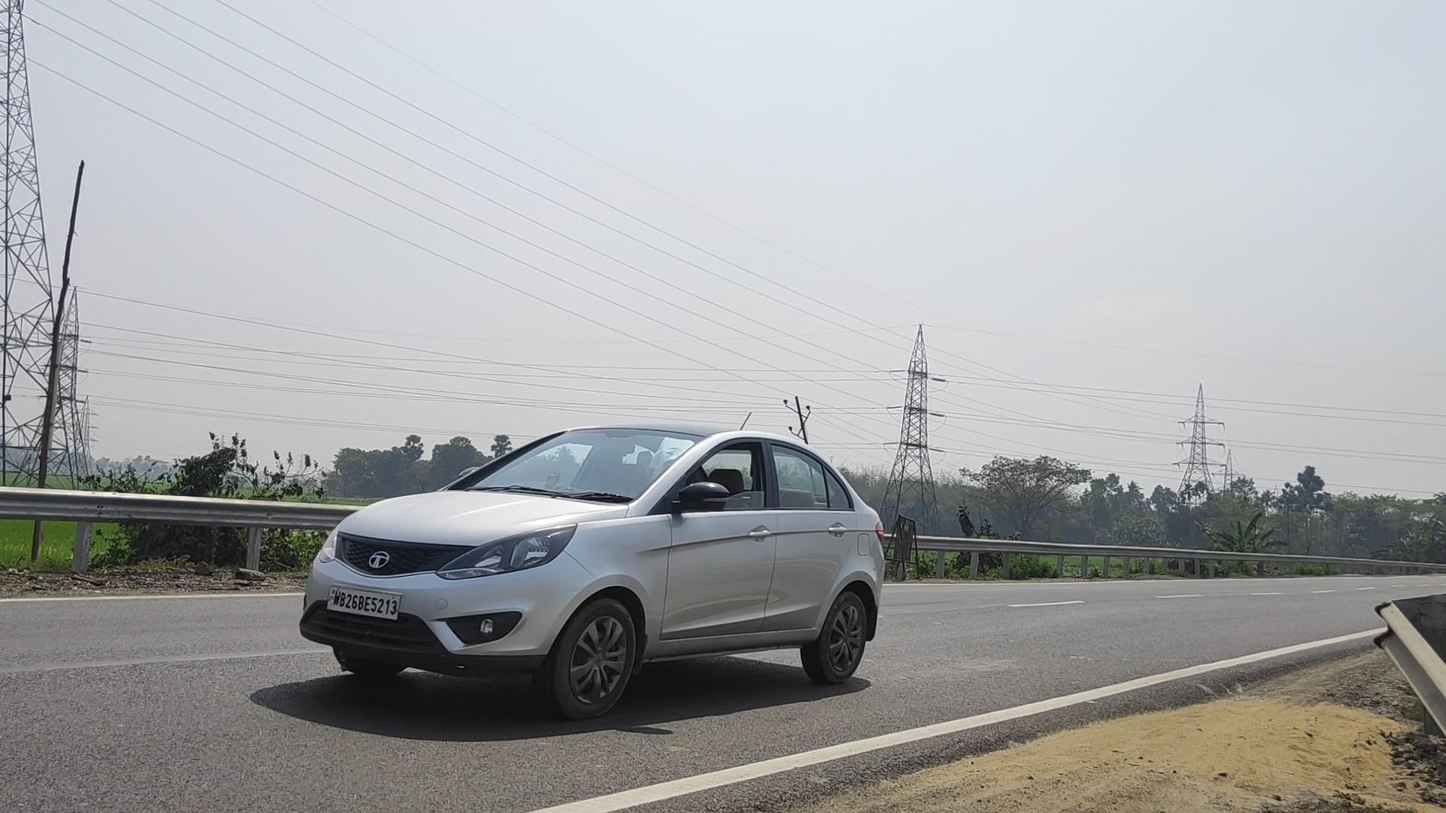car: (300, 419, 886, 721)
